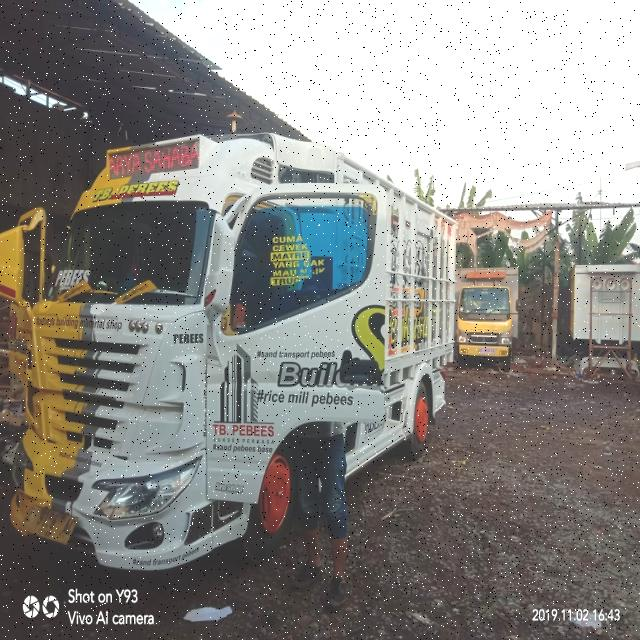truck: (0, 129, 458, 573), (568, 251, 639, 387), (449, 264, 523, 374)
